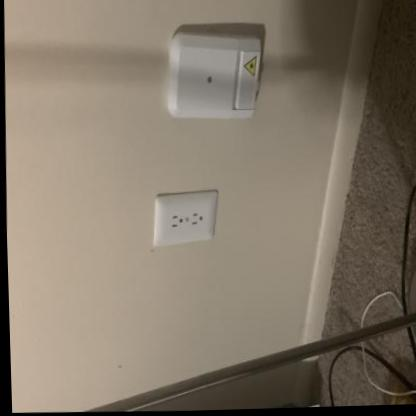OUTLET: (151, 186, 222, 248)
